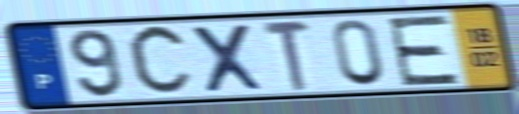0: (330, 18, 386, 88)
9: (67, 27, 125, 100)
C: (125, 21, 196, 101)
E: (384, 12, 463, 88)
T: (259, 19, 315, 93)
X: (186, 21, 269, 96)
